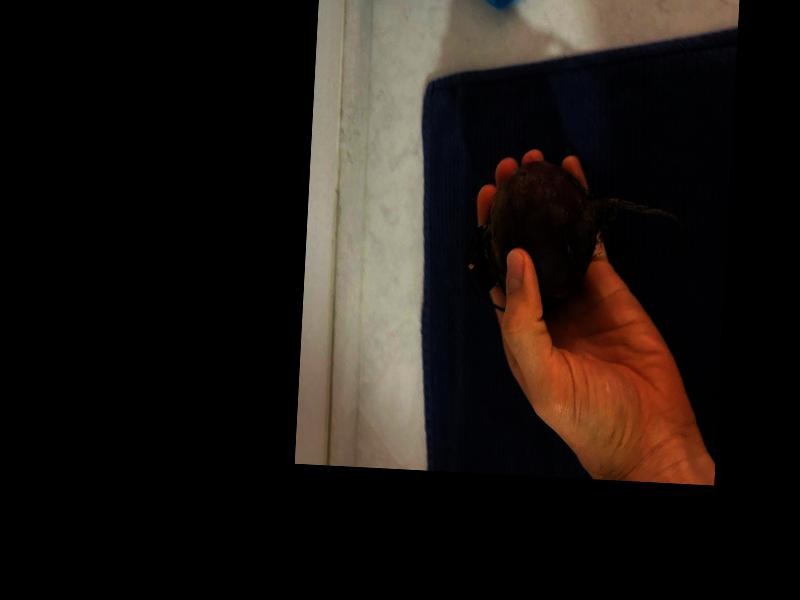Beet: (463, 158, 686, 322)
